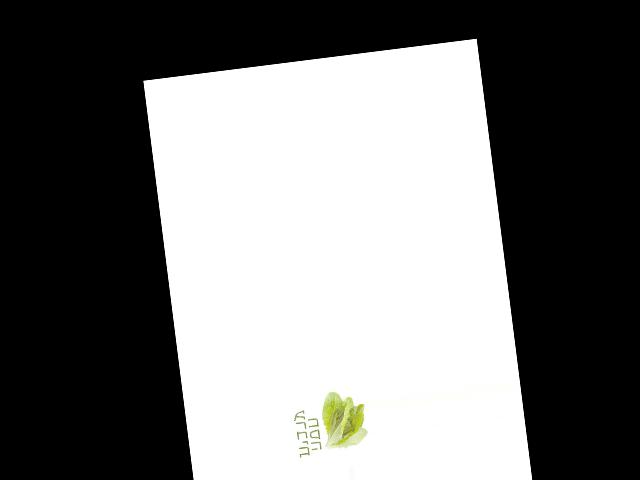lettuce: (313, 387, 369, 454)
